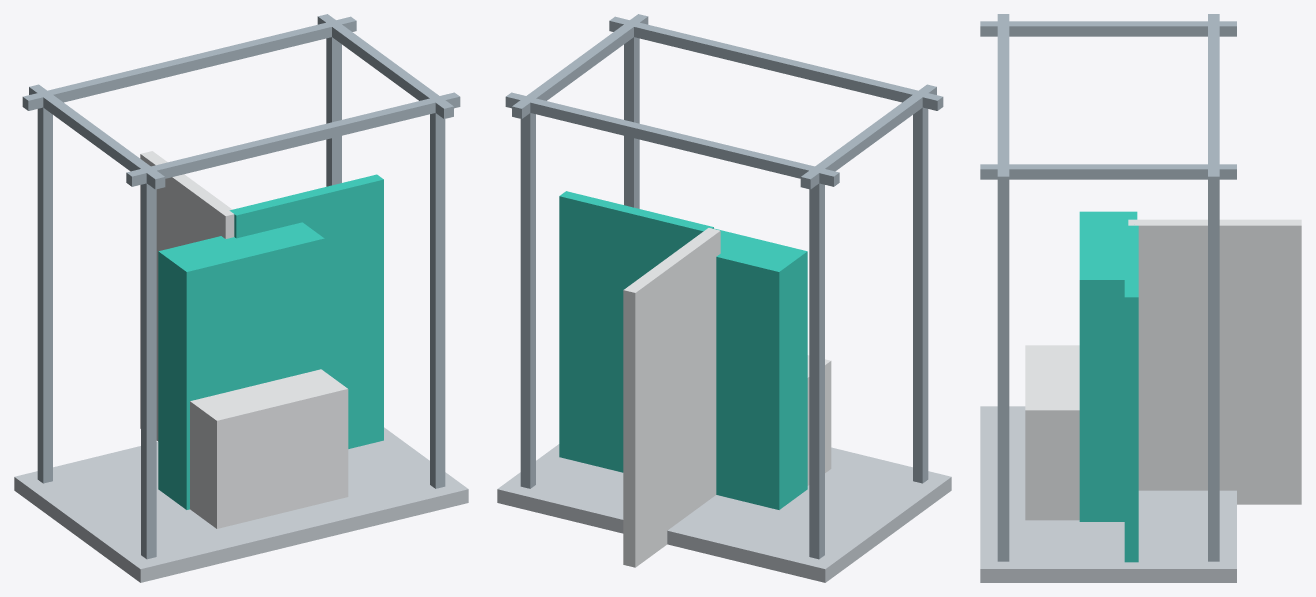
3 renders of one model, left to right at view 1: azimuth 30°, elevation 25°; view 2: azimuth 150°, elevation 25°; view 3: azimuth 270°, elevation 25°, orthographic.
Parts seen in each view (by area): view 1: Exhibition Booth Concept; view 2: Exhibition Booth Concept; view 3: Exhibition Booth Concept.
Boxes of the visible parts, box(x1,y1,x2,y2) form: Exhibition Booth Concept: box(14, 14, 468, 582); Exhibition Booth Concept: box(497, 14, 951, 582); Exhibition Booth Concept: box(980, 14, 1301, 582).
Size of the model in its own units: 3 by 3.49 by 2.5.
